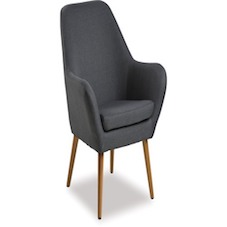chair: (35, 0, 167, 226)
